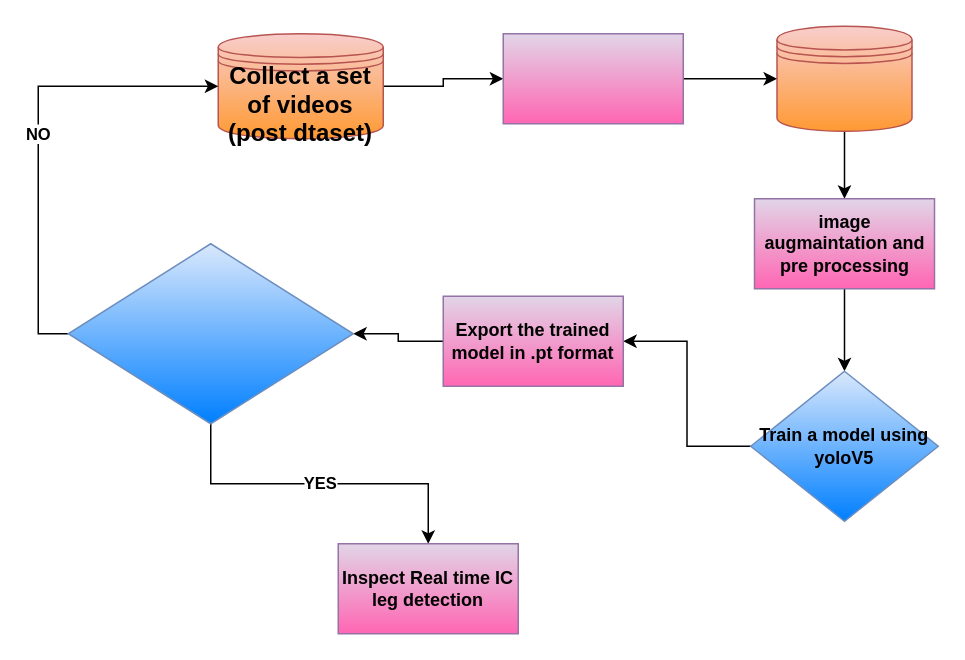
This 965x660 diagram has some shape labels left out. The box of each missing label's shape, as (x1, y1, x2, y2) in pixels:
annotate the dataset using Robolfow: (502, 32, 683, 124)
Export annotated dataset: (776, 25, 912, 131)
Test the trained model to chech trainig objectives acheved: (67, 242, 353, 424)
